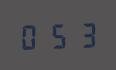five: (45, 20, 70, 49)
three: (71, 19, 96, 48)
zero: (18, 21, 43, 50)
